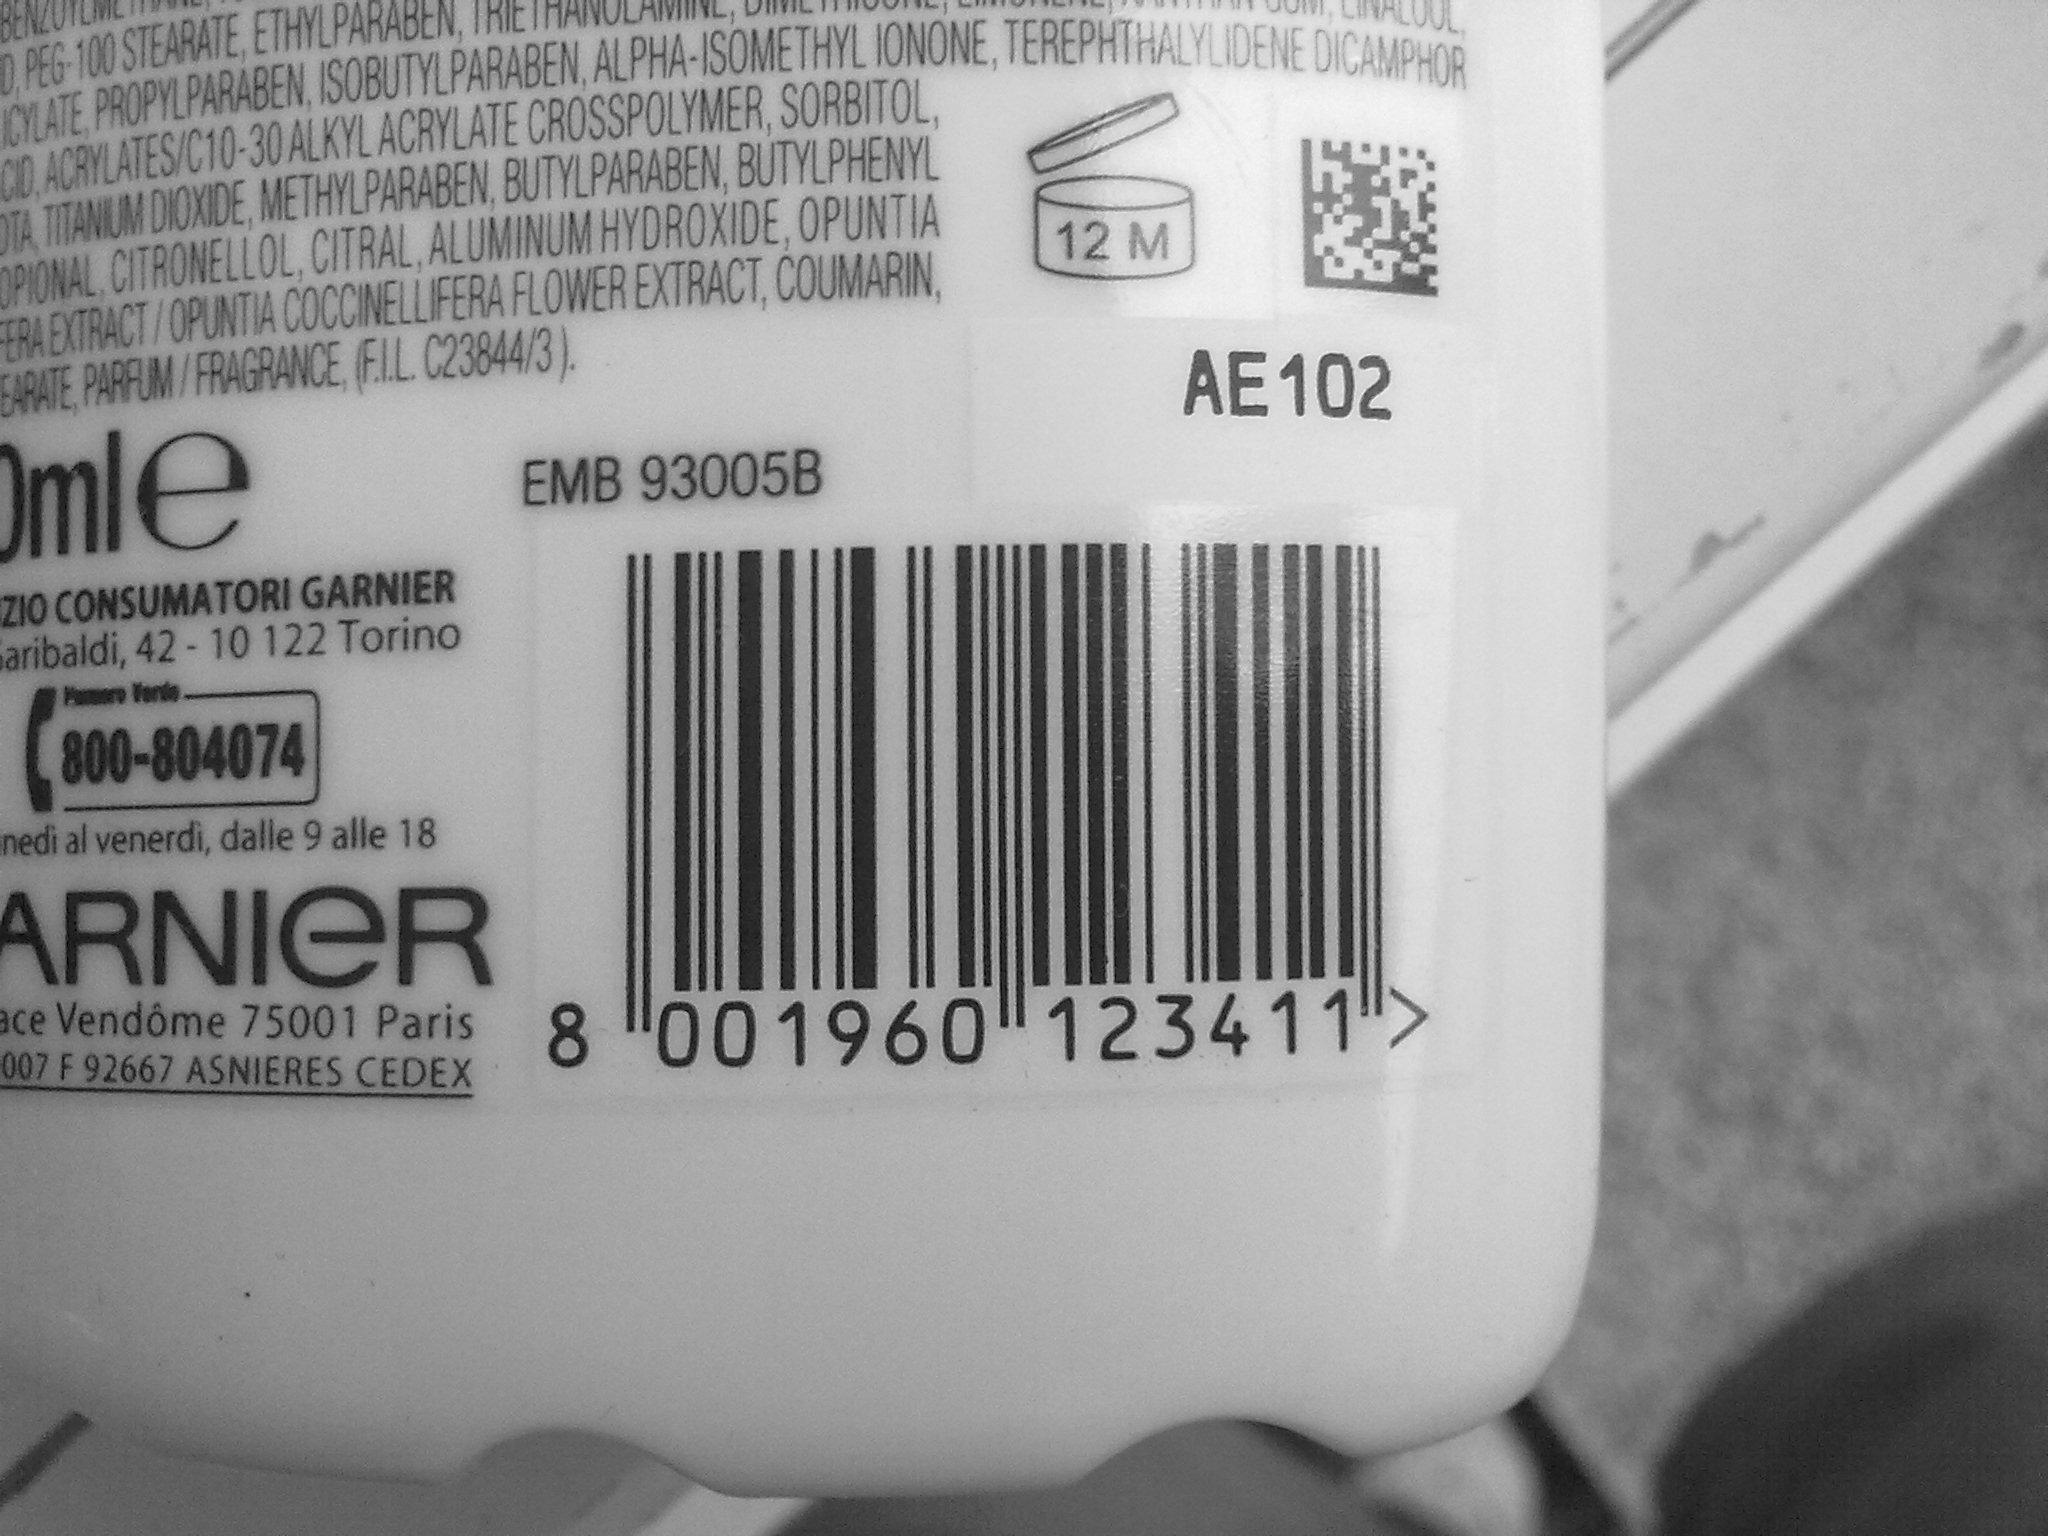Barcode: (555, 521, 1440, 1055)
